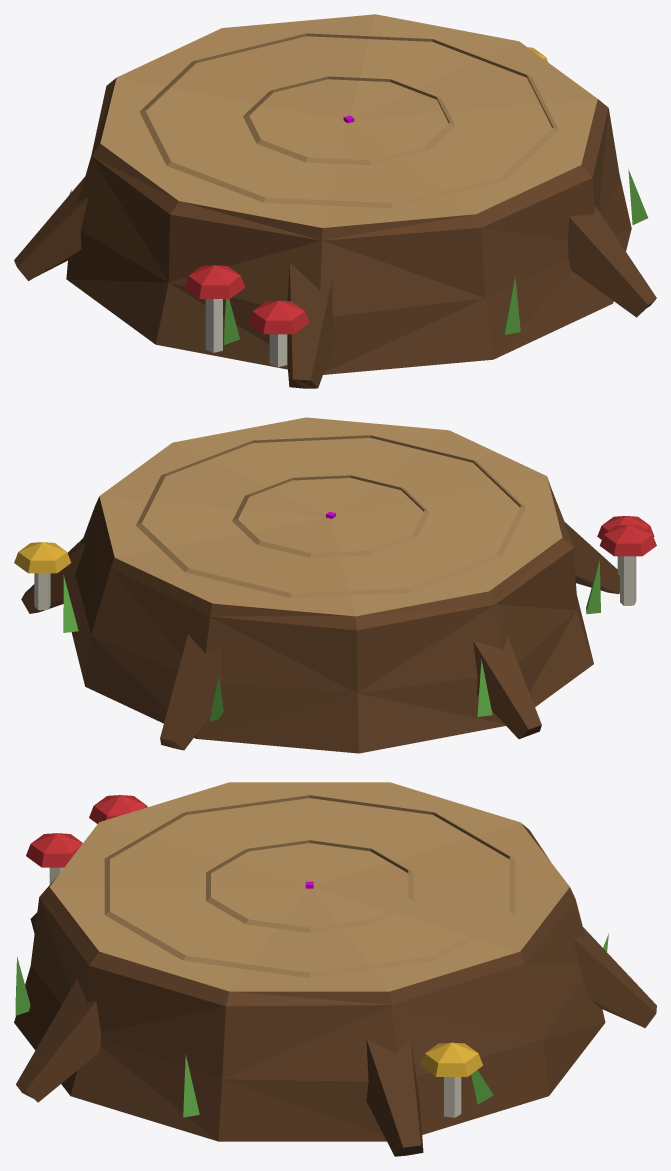
File: Platform_Shiba.fbx
The picture shows the model from 3 angles, top to bottom: view 1: azimuth 30°, elevation 25°; view 2: azimuth 150°, elevation 25°; view 3: azimuth 270°, elevation 25°; orthographic projection. The views are drawn at different scales.
Parts seen in each view (by area): view 1: Body; view 2: Body; view 3: Body.
Part boxes in pixels (<box>): Body: <box>14,14,656,388</box>; Body: <box>14,417,656,753</box>; Body: <box>14,782,656,1156</box>.
Size of the model in its own units: 8.42 by 1.95 by 8.15.
